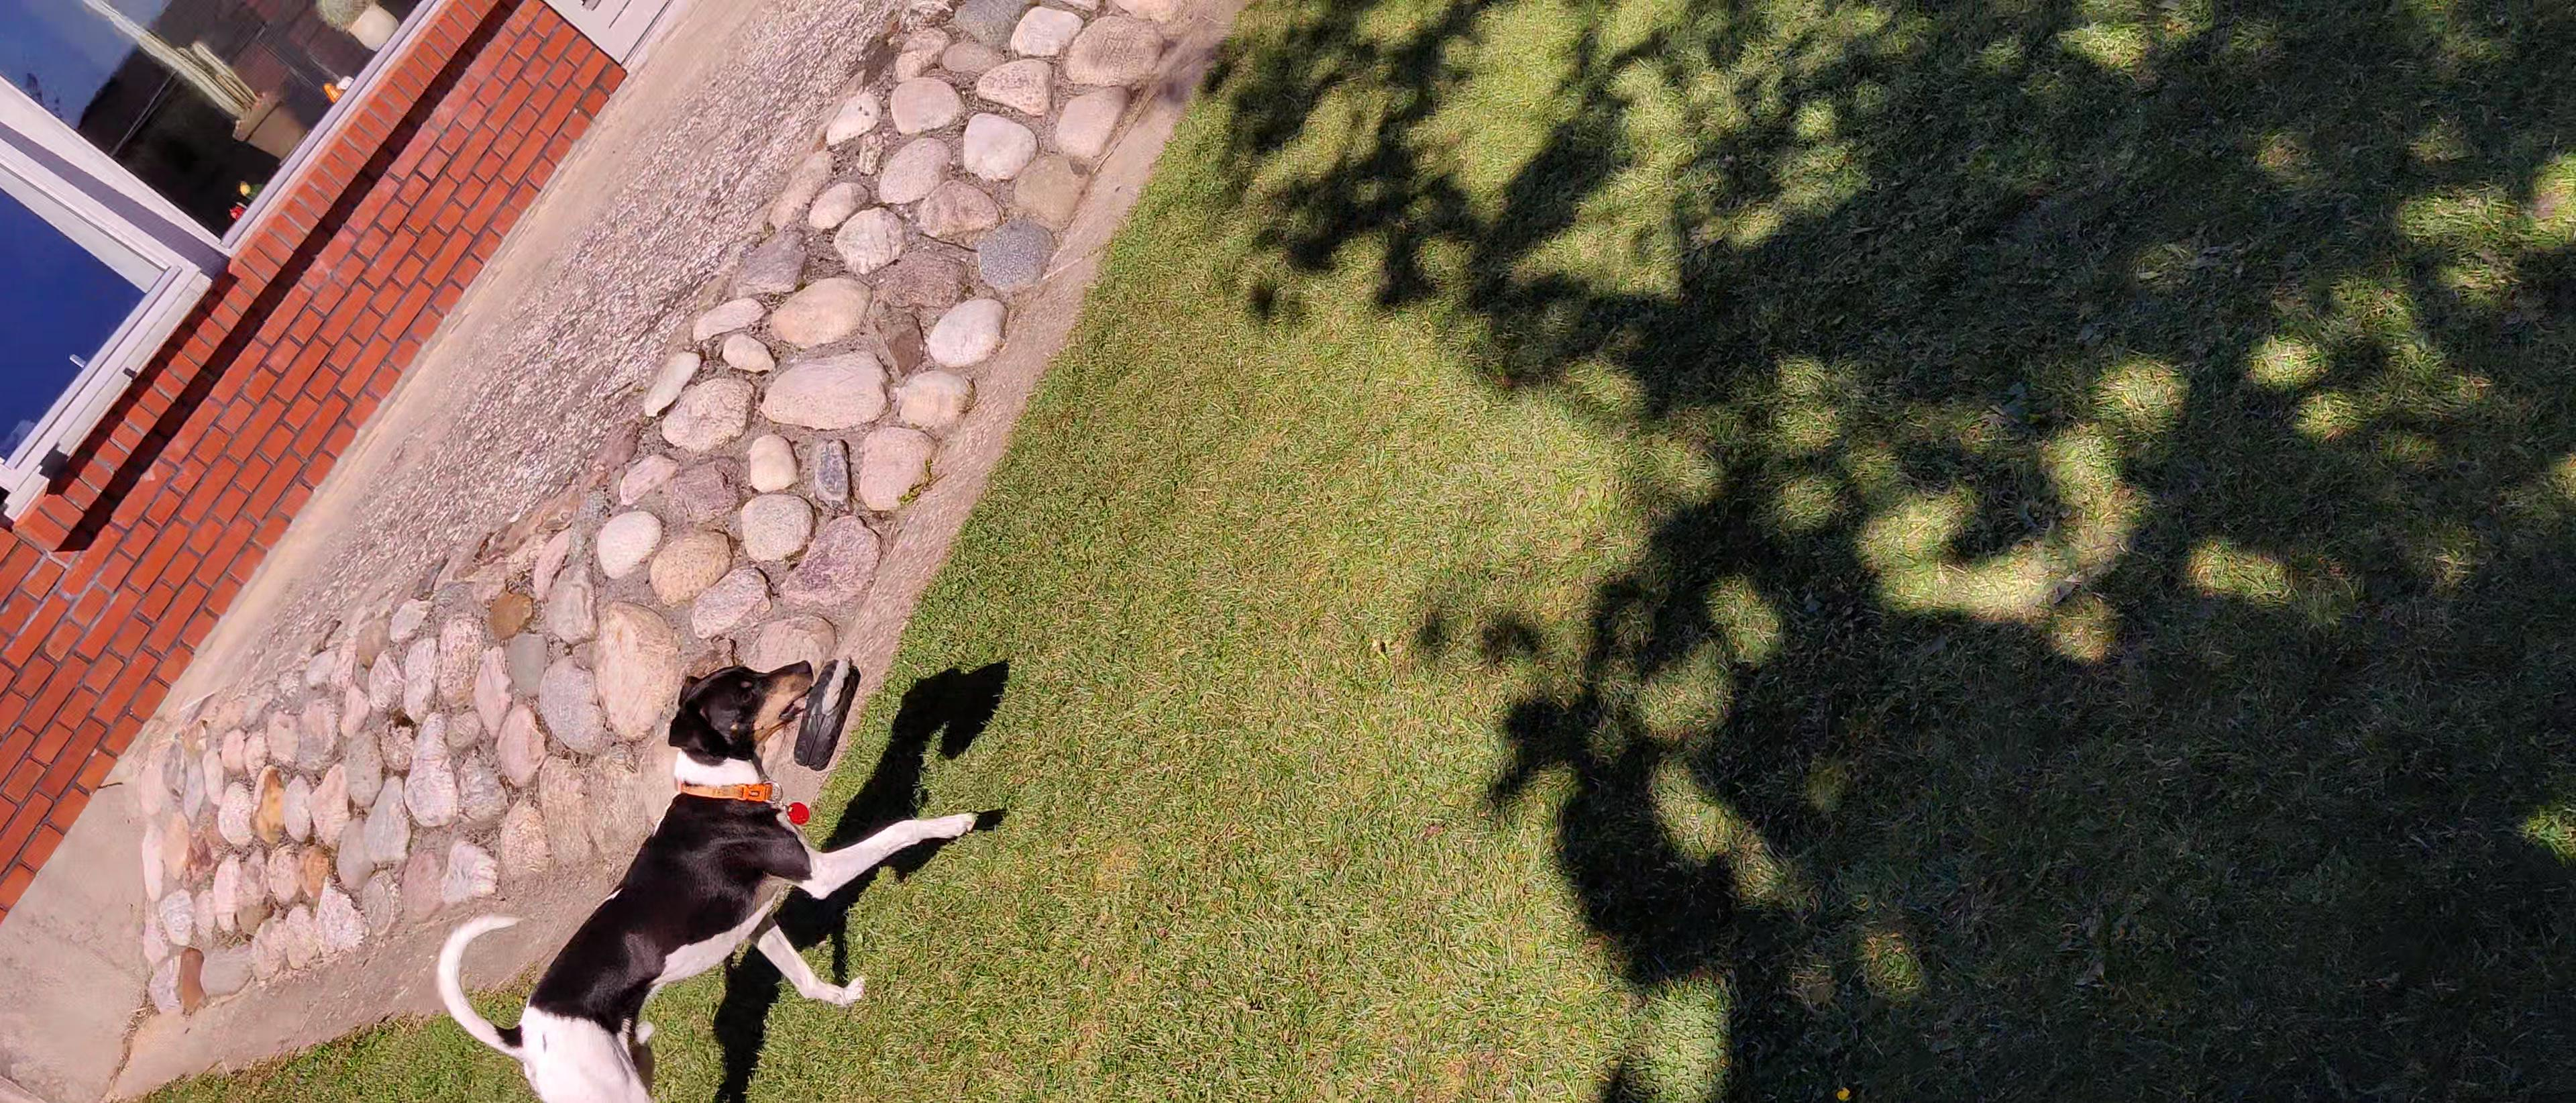Dog: (429, 658, 984, 1103)
